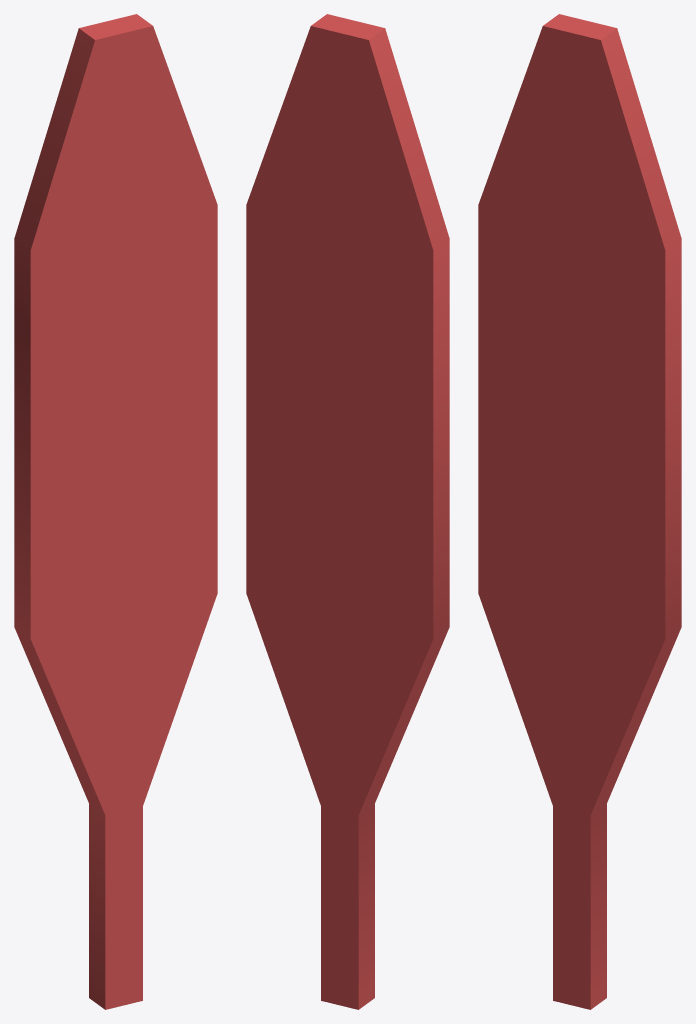
Rendered from Feather Source.fbx.
3 renders of one model, left to right at view 1: azimuth 30°, elevation 25°; view 2: azimuth 150°, elevation 25°; view 3: azimuth 330°, elevation 25°, orthographic.
Visible parts, largest first — view 1: pCube1; view 2: pCube1; view 3: pCube1.
Part boxes in pixels (left/top/right/bottom): pCube1: left=14, top=14, right=217, bottom=1009; pCube1: left=246, top=14, right=449, bottom=1009; pCube1: left=478, top=14, right=681, bottom=1009.
Bounding box in the file's own units: 1.01 × 5 × 0.1522.
